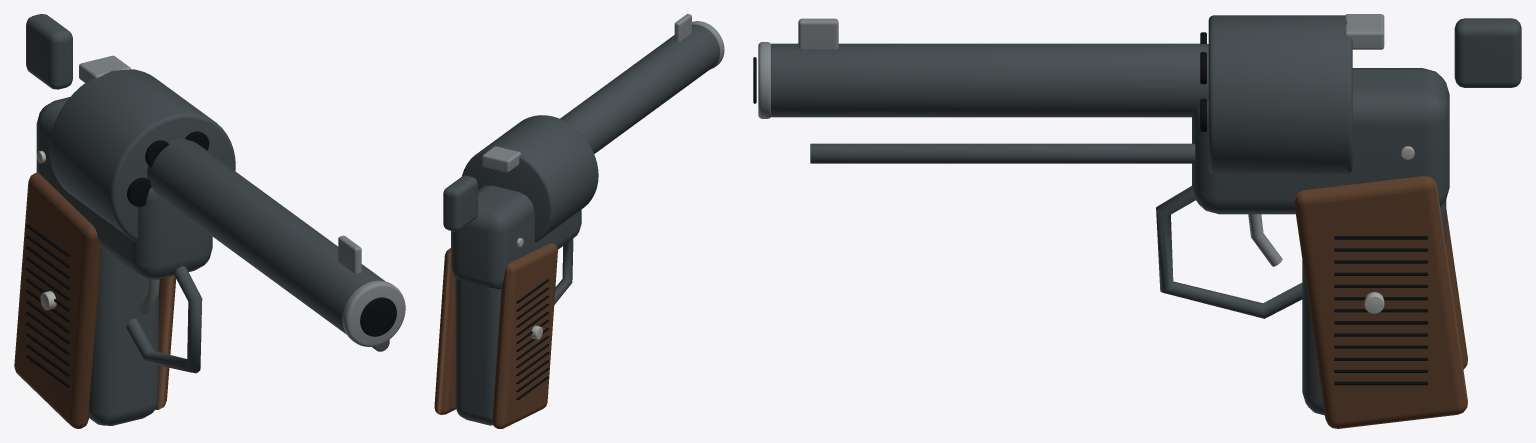
Rendered from revolver_v07.glb.
3 views of the same model, side by side, from view 1: azimuth 30°, elevation 25°; view 2: azimuth 150°, elevation 25°; view 3: azimuth 270°, elevation 25° (orthographic). The views are drawn at different scales.
Parts seen in each view (by area): view 1: BluedSteel, WalnutGrip, Bore, MachinedSteel; view 2: BluedSteel, WalnutGrip, Bore, MachinedSteel; view 3: BluedSteel, WalnutGrip, Bore, MachinedSteel.
Part boxes in pixels (<box>): BluedSteel: <box>26,14,389,425</box>; WalnutGrip: <box>14,172,175,428</box>; Bore: <box>26,131,396,387</box>; MachinedSteel: <box>79,55,405,346</box>; BluedSteel: <box>443,24,719,425</box>; WalnutGrip: <box>434,243,557,428</box>; Bore: <box>516,279,549,400</box>; MachinedSteel: <box>482,14,724,172</box>; BluedSteel: <box>771,15,1521,415</box>; WalnutGrip: <box>1294,176,1467,428</box>; Bore: <box>753,32,1427,385</box>; MachinedSteel: <box>758,14,1384,266</box>.
Bounding box in the file's own units: 0.048 × 0.1275 × 0.2295.
